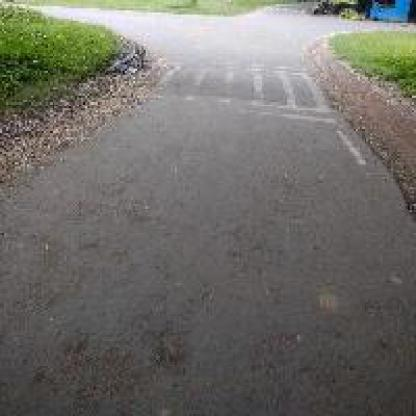Speed Bump: (143, 60, 337, 125)
